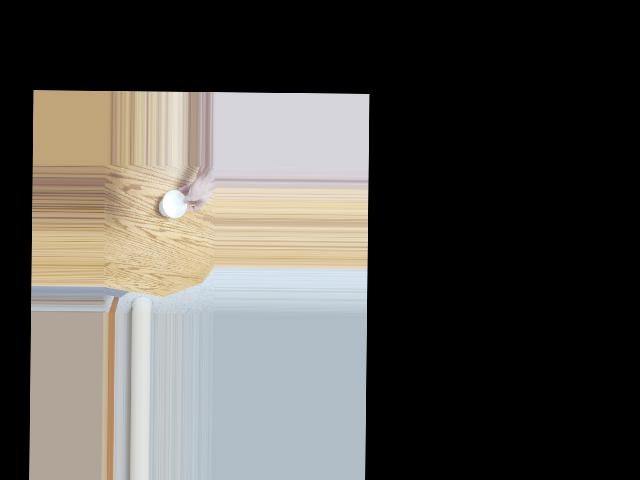cotage: (159, 185, 191, 222)
